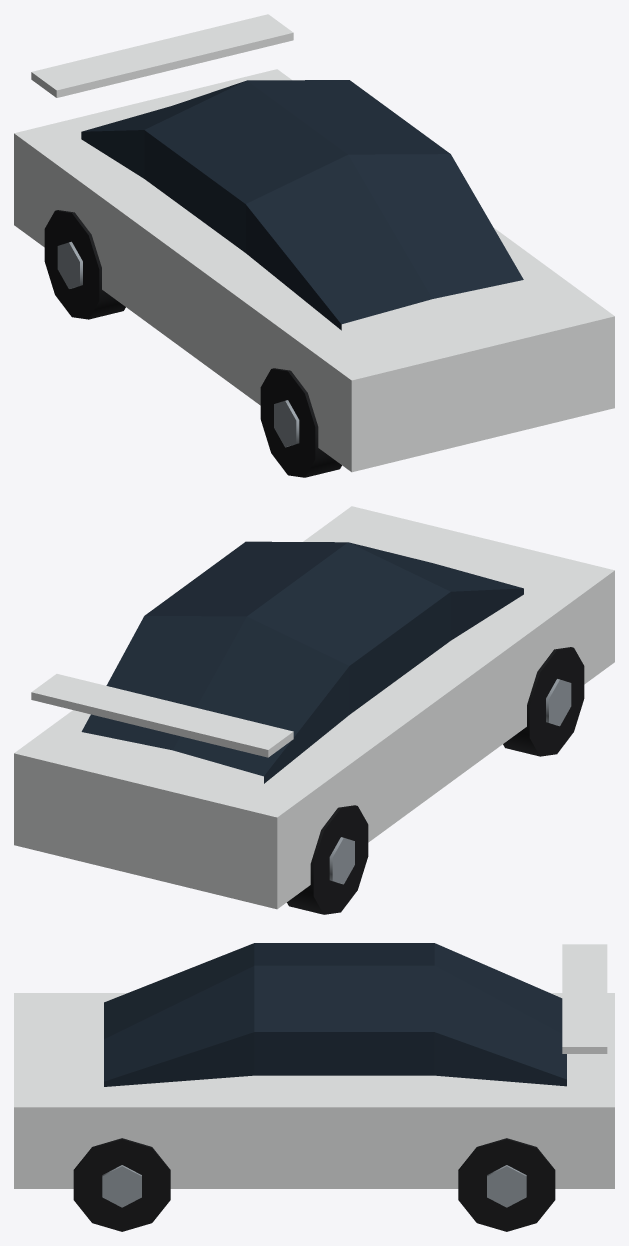
The model's file is veh_ground_car_a08.glb.
The picture shows the model from 3 angles, top to bottom: view 1: azimuth 30°, elevation 25°; view 2: azimuth 150°, elevation 25°; view 3: azimuth 270°, elevation 25°; orthographic projection. The views are drawn at different scales.
Parts seen in each view (by area): view 1: body, wheel_2, wheel_0; view 2: body, wheel_0, wheel_2; view 3: body, wheel_1, wheel_3.
Part boxes in pixels (left/top/right/bottom): body: left=14, top=14, right=614, bottom=472; wheel_2: left=260, top=368, right=341, bottom=477; wheel_0: left=44, top=210, right=125, bottom=319; body: left=14, top=506, right=614, bottom=909; wheel_0: left=287, top=805, right=368, bottom=914; wheel_2: left=503, top=647, right=584, bottom=756; body: left=14, top=943, right=614, bottom=1188; wheel_1: left=458, top=1138, right=555, bottom=1231; wheel_3: left=73, top=1138, right=170, bottom=1231.
Size of what is drawn, in the model's own units: 1.88 by 1.53 by 4.
